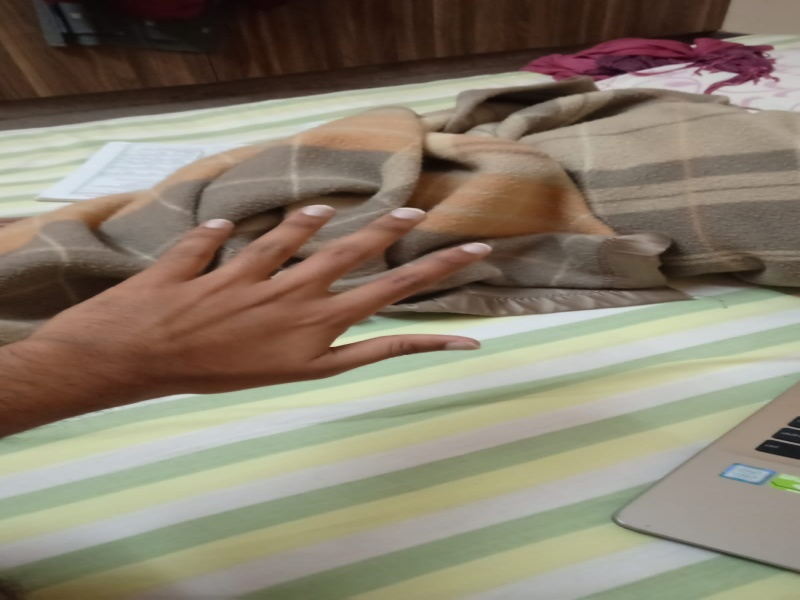Hand: (19, 199, 503, 407)
